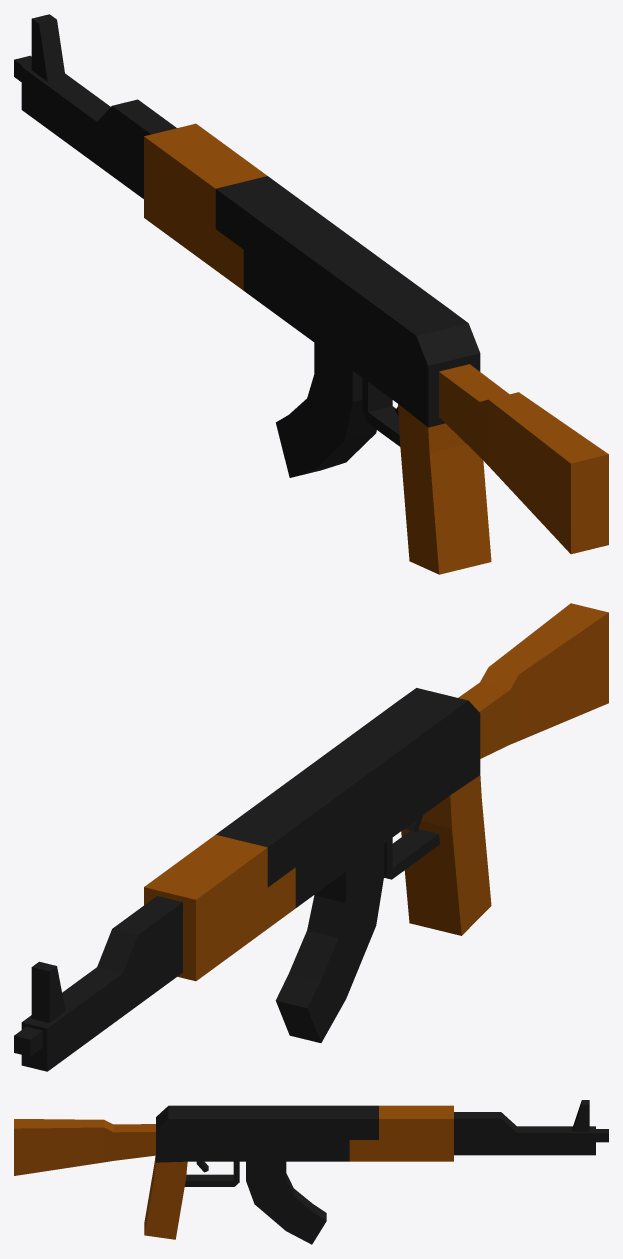
3 renders of one model, top to bottom at view 1: azimuth 30°, elevation 25°; view 2: azimuth 150°, elevation 25°; view 3: azimuth 270°, elevation 25°, orthographic. The views are drawn at different scales.
Parts seen in each view (by area): view 1: Dark Metal, Wood; view 2: Dark Metal, Wood; view 3: Dark Metal, Wood.
Part boxes in pixels (box(x1,y1,x2,y2)): Dark Metal: box(14, 14, 480, 477); Wood: box(144, 123, 608, 574); Dark Metal: box(14, 688, 480, 1071); Wood: box(144, 603, 608, 981); Dark Metal: box(156, 1100, 608, 1244); Wood: box(14, 1105, 453, 1239).
Bounding box in the file's own units: 0.88 × 16.57 × 4.25.
